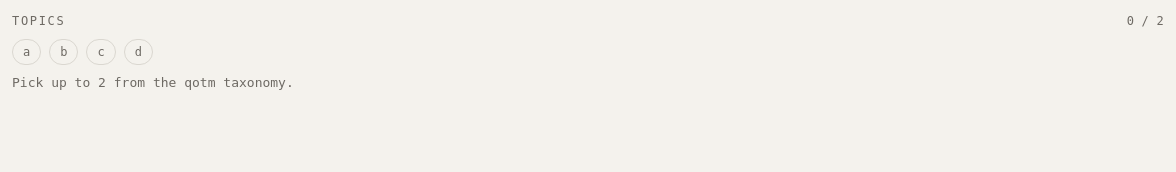
TopicPicker › picks up to the maximum, then disables the rest until one is dropped
The width and height of the screenshot is (1176, 172).
Click the button "a".
click(27, 52)  # box [12,39,41,65]
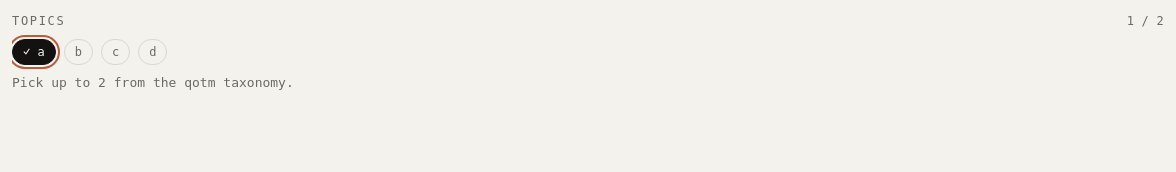
Click the button "b".
click(78, 52)  # box [64,39,93,65]
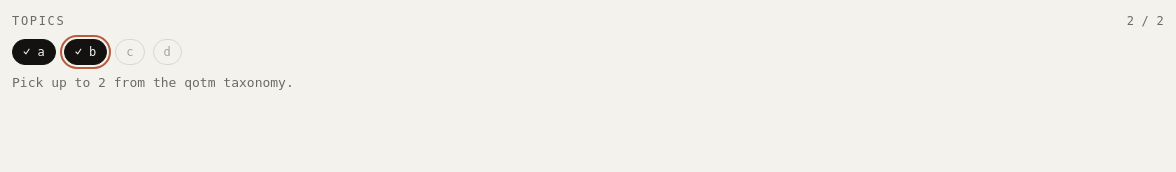
Check: the text "2 / 2" is shown, box [1127,12,1164,31]
Check: the button "c" is disabled, box [115,39,144,65]
Click the button "✓︎ a".
click(34, 52)  # box [12,39,56,65]
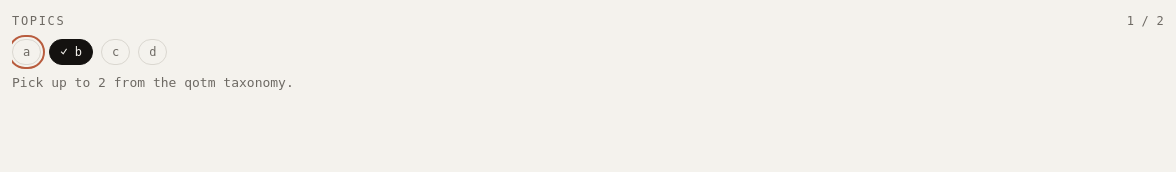
Check: the button "c" is enabled, box [101,39,130,65]
